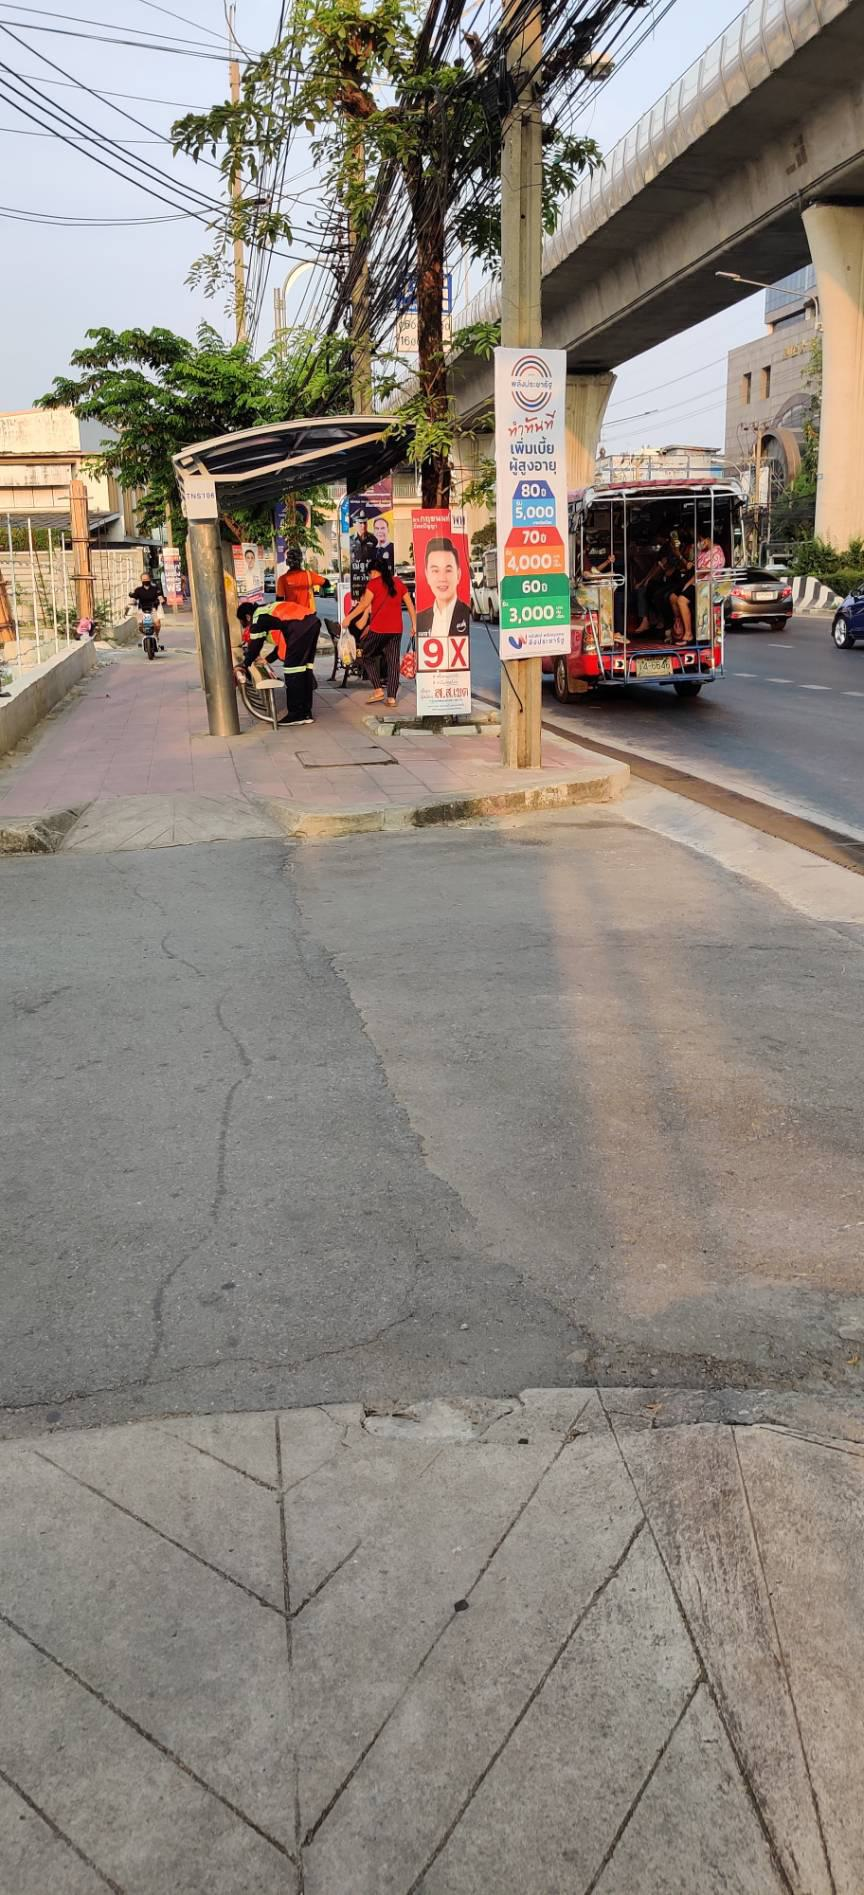Banner: (482, 338, 576, 661), (405, 508, 471, 718)
